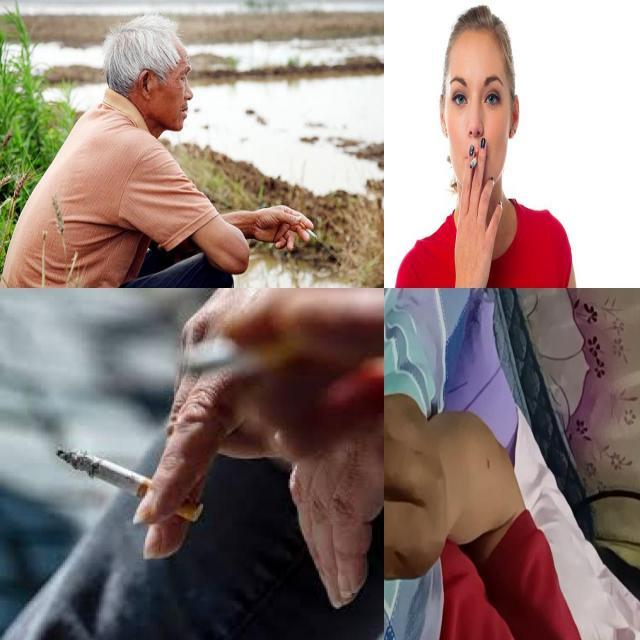cigarette: (56, 449, 204, 522), (298, 221, 319, 240), (468, 155, 479, 169)
